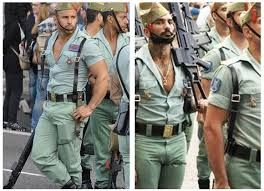gun: (166, 4, 216, 102)
uniform: (42, 36, 97, 172)
